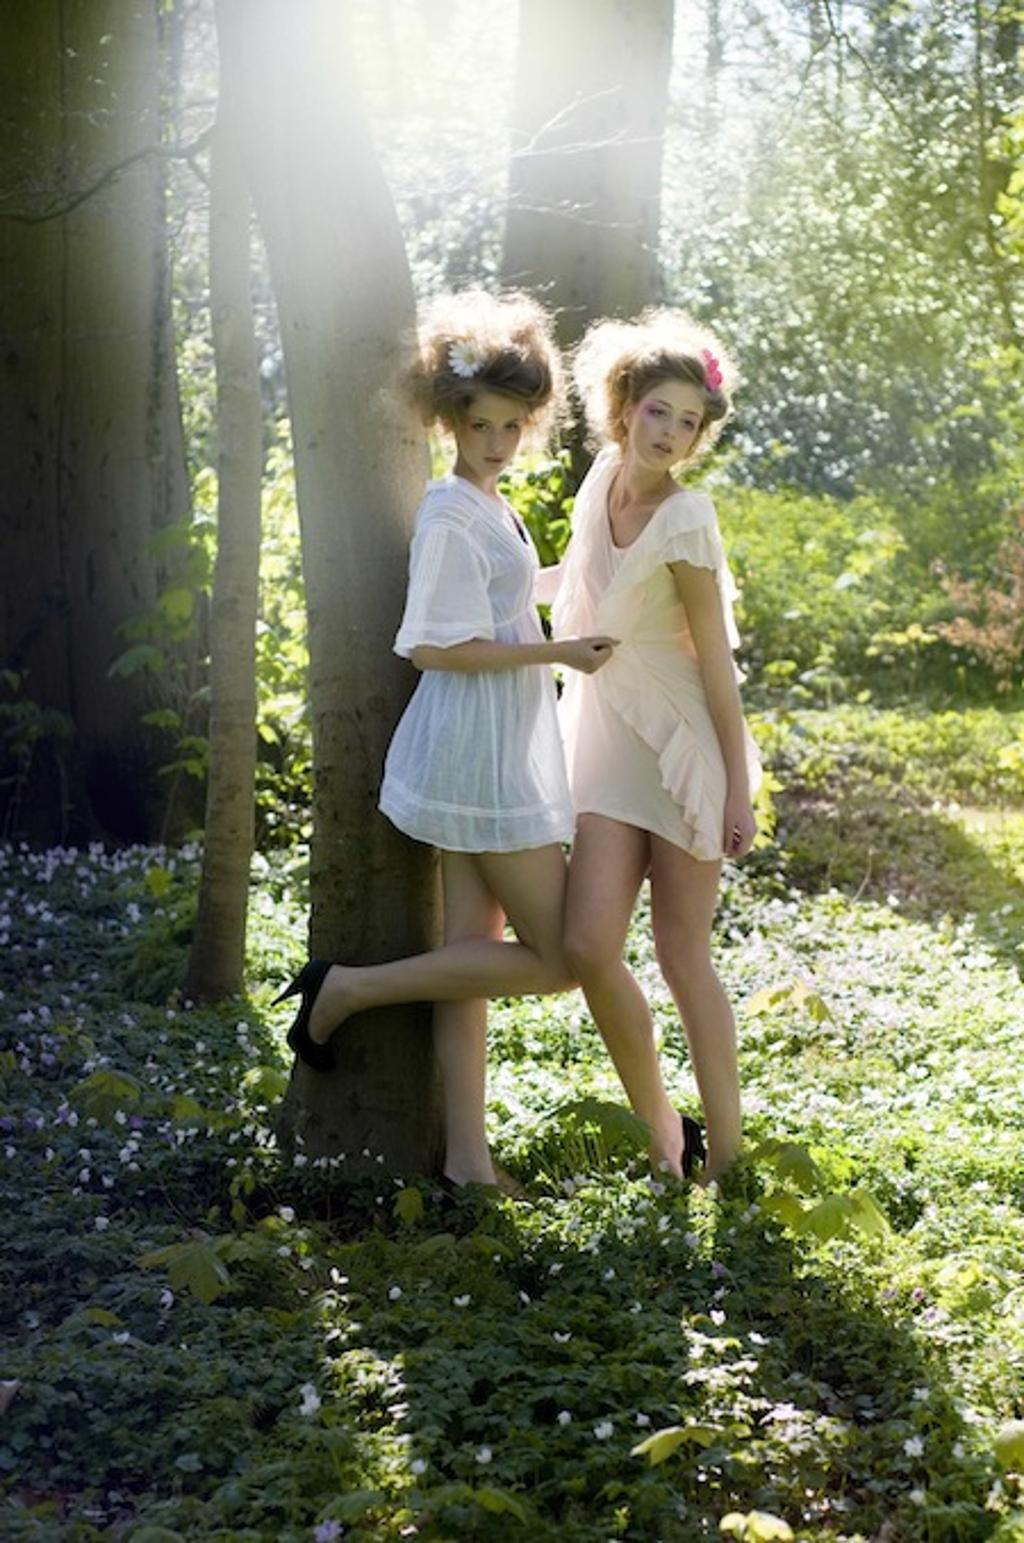face: (626, 367, 704, 460), (464, 389, 533, 482)
